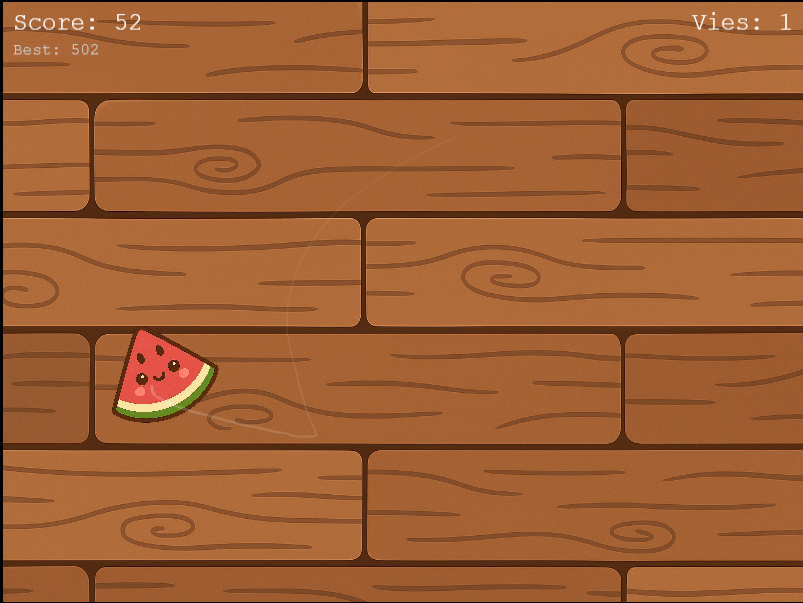fruit: (108, 323, 228, 432)
